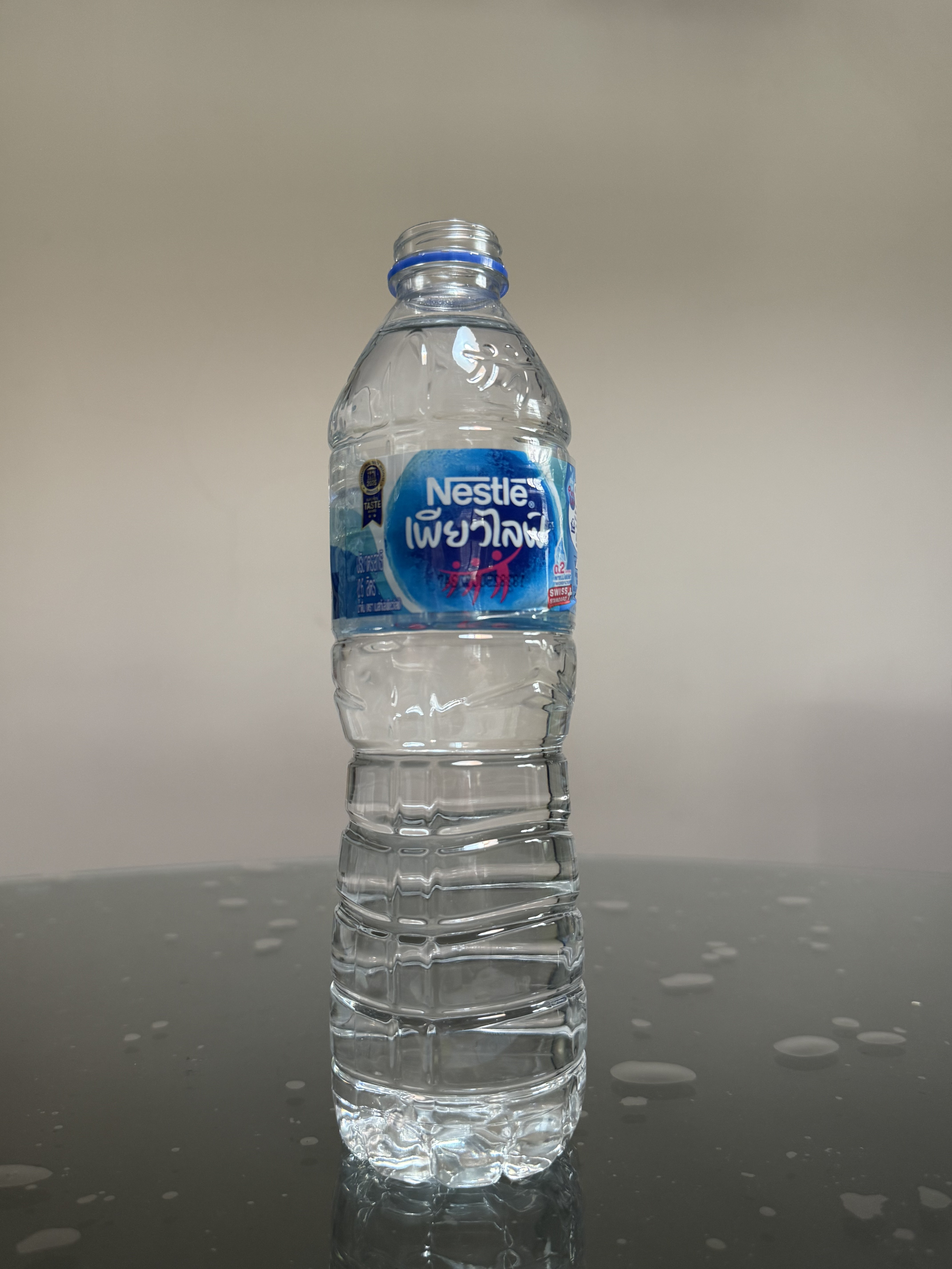no_cap: (387, 217, 516, 290)
